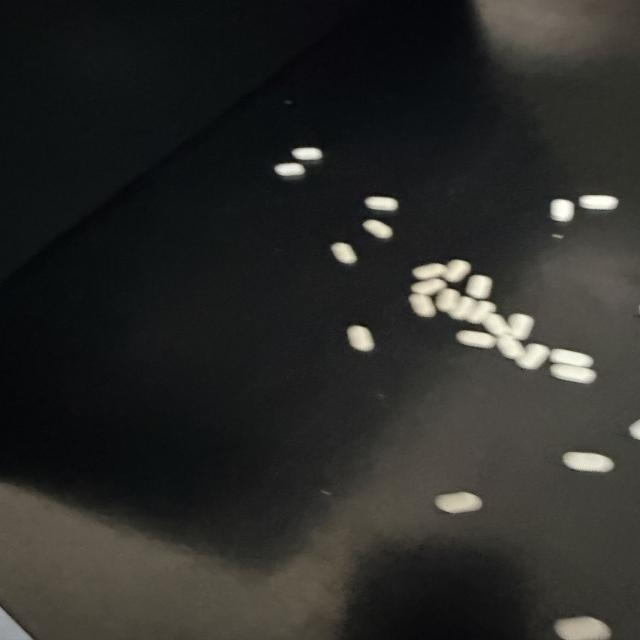pill: (554, 617, 611, 639), (563, 452, 614, 472), (435, 492, 482, 513), (551, 364, 596, 383), (516, 344, 549, 369), (550, 349, 593, 367), (466, 300, 497, 324), (456, 330, 496, 348), (508, 314, 534, 340), (347, 326, 374, 351), (449, 297, 477, 321), (497, 335, 524, 359), (466, 275, 492, 299), (409, 294, 436, 317), (363, 219, 393, 239), (412, 263, 447, 280), (483, 314, 510, 336), (444, 260, 471, 282), (579, 195, 618, 210), (550, 199, 574, 222), (436, 289, 460, 312), (331, 243, 357, 264), (412, 279, 446, 295), (365, 196, 398, 211), (274, 163, 305, 177), (291, 147, 322, 161), (629, 420, 639, 439), (552, 234, 563, 239)
